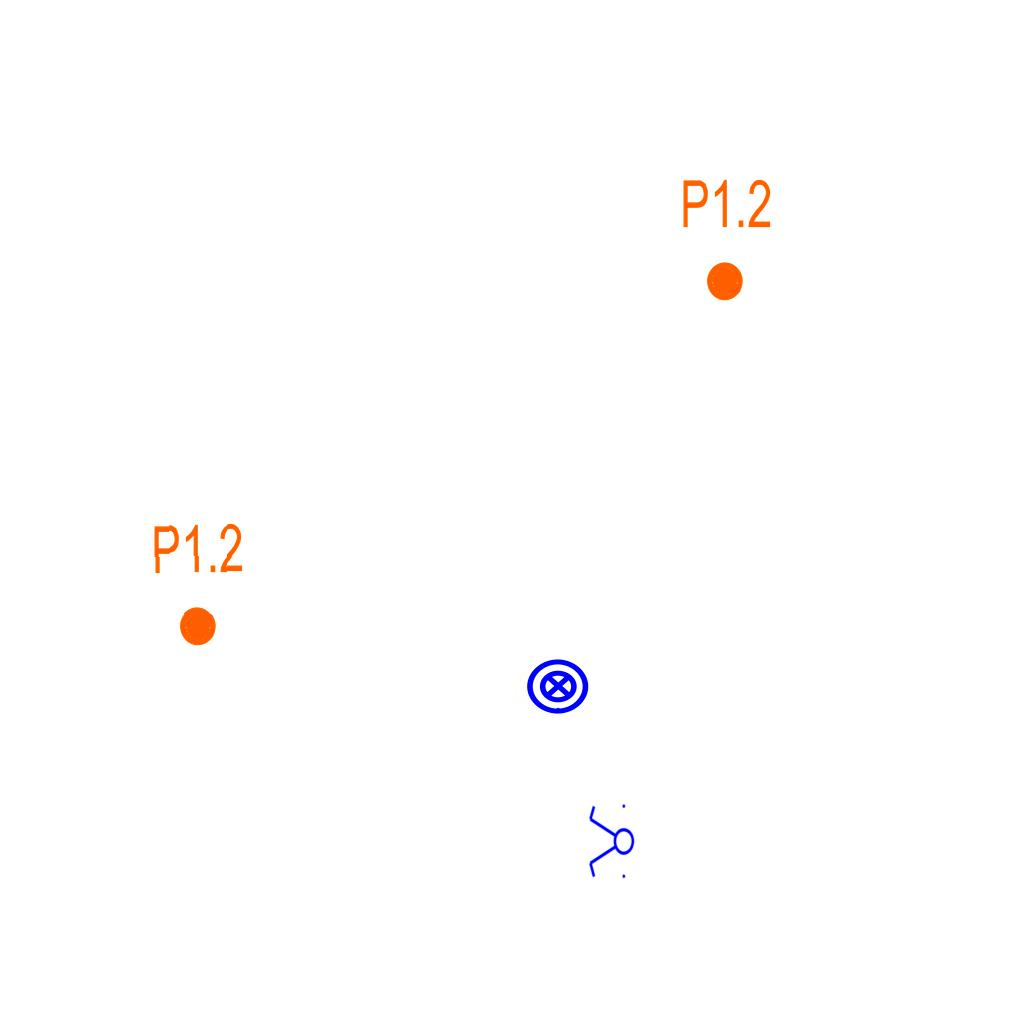Downlight_LED_Einbauleuchten_Flur: (150, 520, 247, 650), (680, 176, 773, 304)
Serienschalter: (587, 800, 635, 884)
Taster_beleuchtet: (525, 653, 591, 719)
